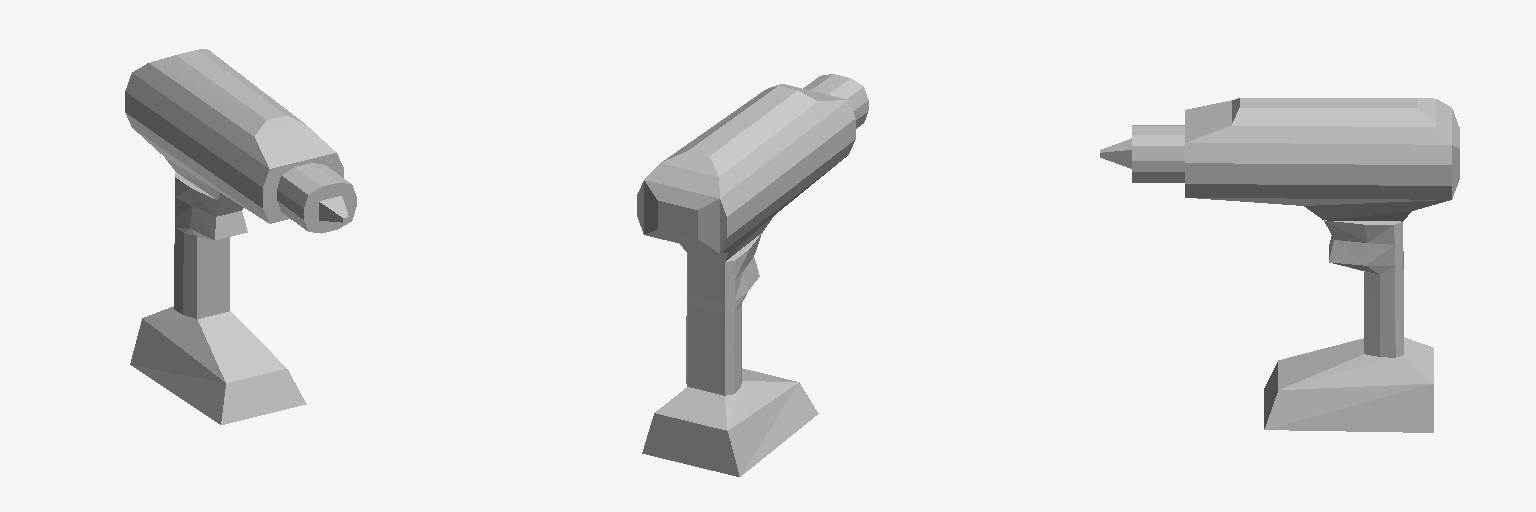
File: Drill.obj
3 views of the same model, side by side, from view 1: azimuth 30°, elevation 25°; view 2: azimuth 150°, elevation 25°; view 3: azimuth 270°, elevation 25° (orthographic).
Visible parts, largest first — view 1: DrillMesh; view 2: DrillMesh; view 3: DrillMesh.
Boxes of the visible parts, box(x1,y1,x2,y2) form: DrillMesh: box(125, 49, 356, 424); DrillMesh: box(637, 74, 868, 476); DrillMesh: box(1100, 98, 1459, 432).
Size of the model in its own units: 5.59 by 16.7 by 17.83.